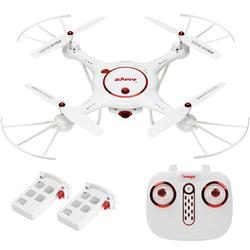drone: (1, 13, 250, 162)
